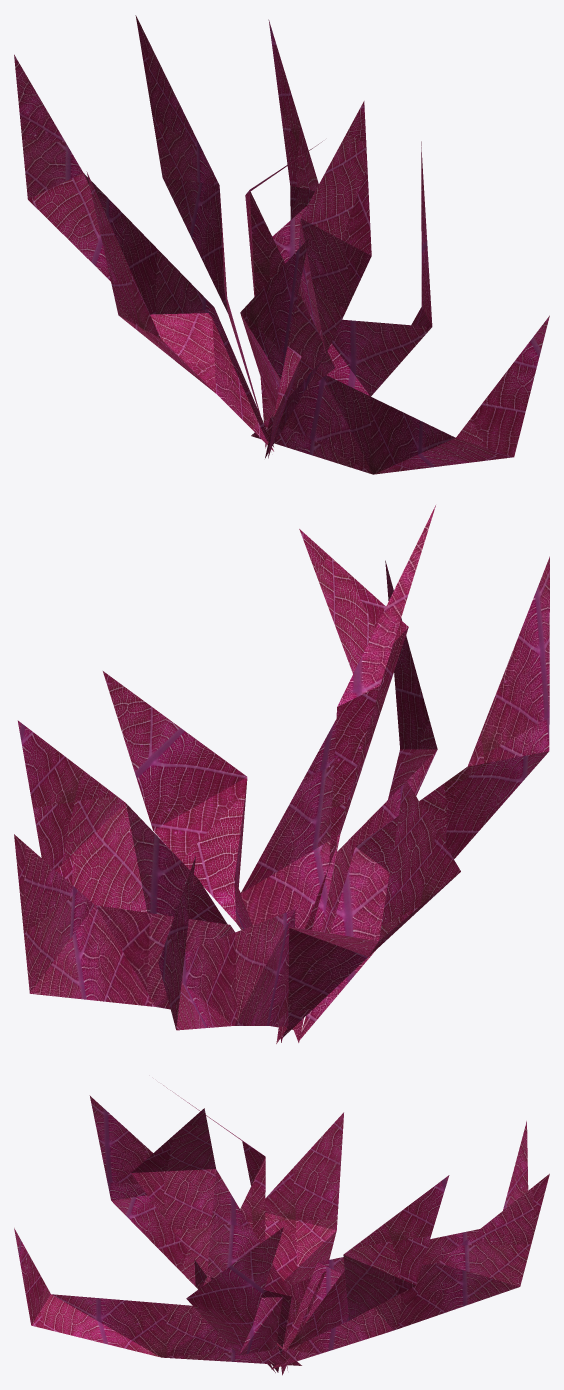
Rendered from FougereRose.dae.
3 renders of one model, top to bottom at view 1: azimuth 30°, elevation 25°; view 2: azimuth 150°, elevation 25°; view 3: azimuth 270°, elevation 25°, orthographic. The views are drawn at different scales.
Visible parts, largest first — view 1: SketchUp (×9); view 2: SketchUp (×9); view 3: SketchUp (×9).
Part boxes in pixels (x1=…): SketchUp (×9): x1=14, y1=15, x2=549, y2=474; SketchUp (×9): x1=14, y1=505, x2=549, y2=1043; SketchUp (×9): x1=14, y1=1085, x2=549, y2=1375.
Bounding box in the file's own units: 1.06 × 2.26 × 1.35.
Materials: 17 (17 with a texture image).
